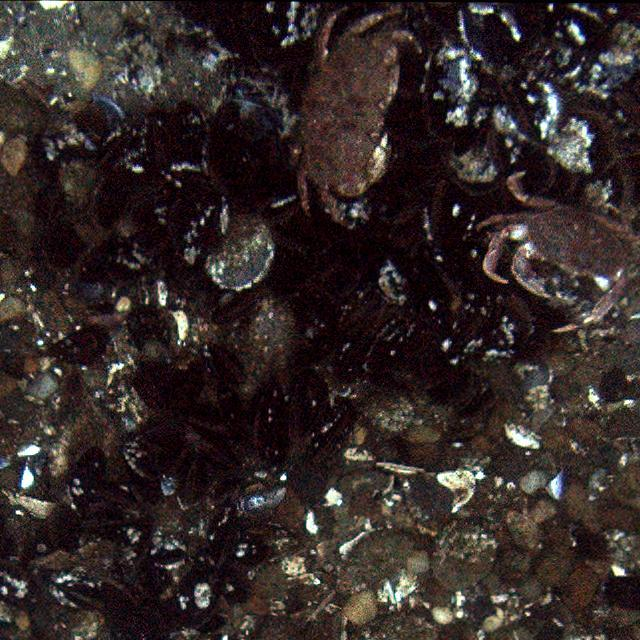crab: (475, 170, 640, 334), (290, 3, 416, 215)
